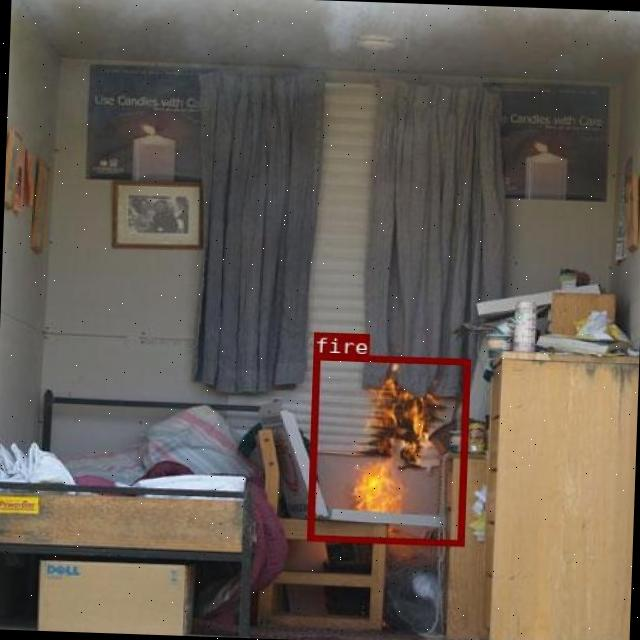fire: (306, 353, 468, 545)
